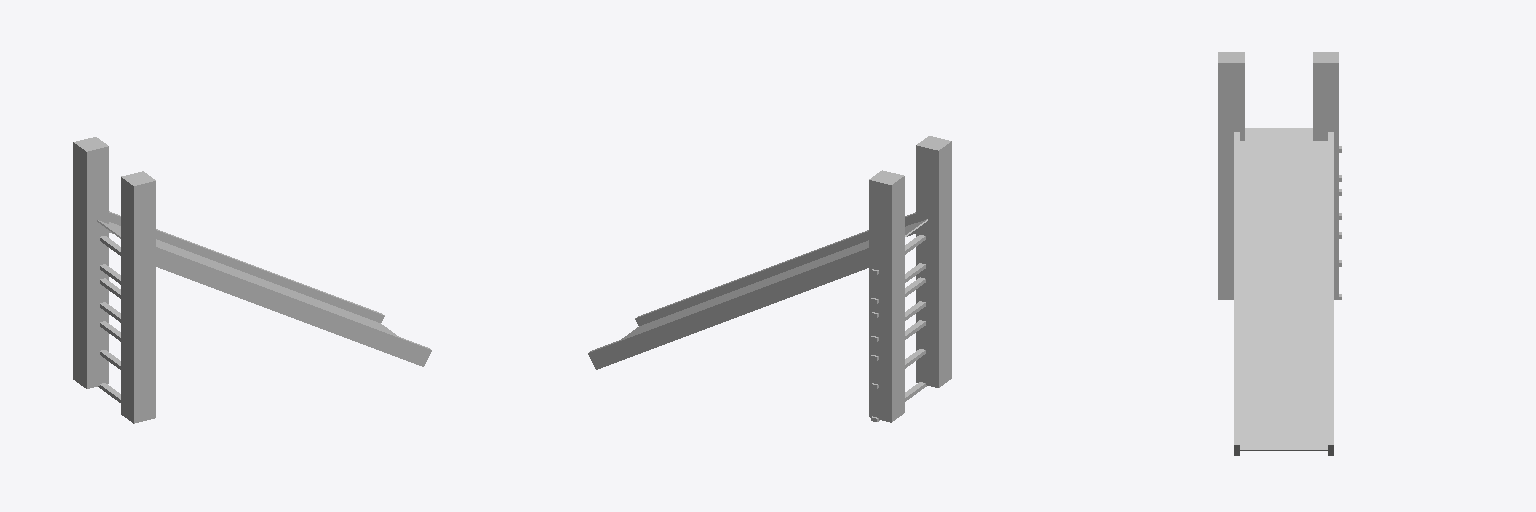
Rendered from zjezdzalnia.OBJ.
The picture shows the model from 3 angles: view 1: azimuth 30°, elevation 25°; view 2: azimuth 150°, elevation 25°; view 3: azimuth 270°, elevation 25°; orthographic projection.
Size of the model in its own units: 674 by 546 by 235.